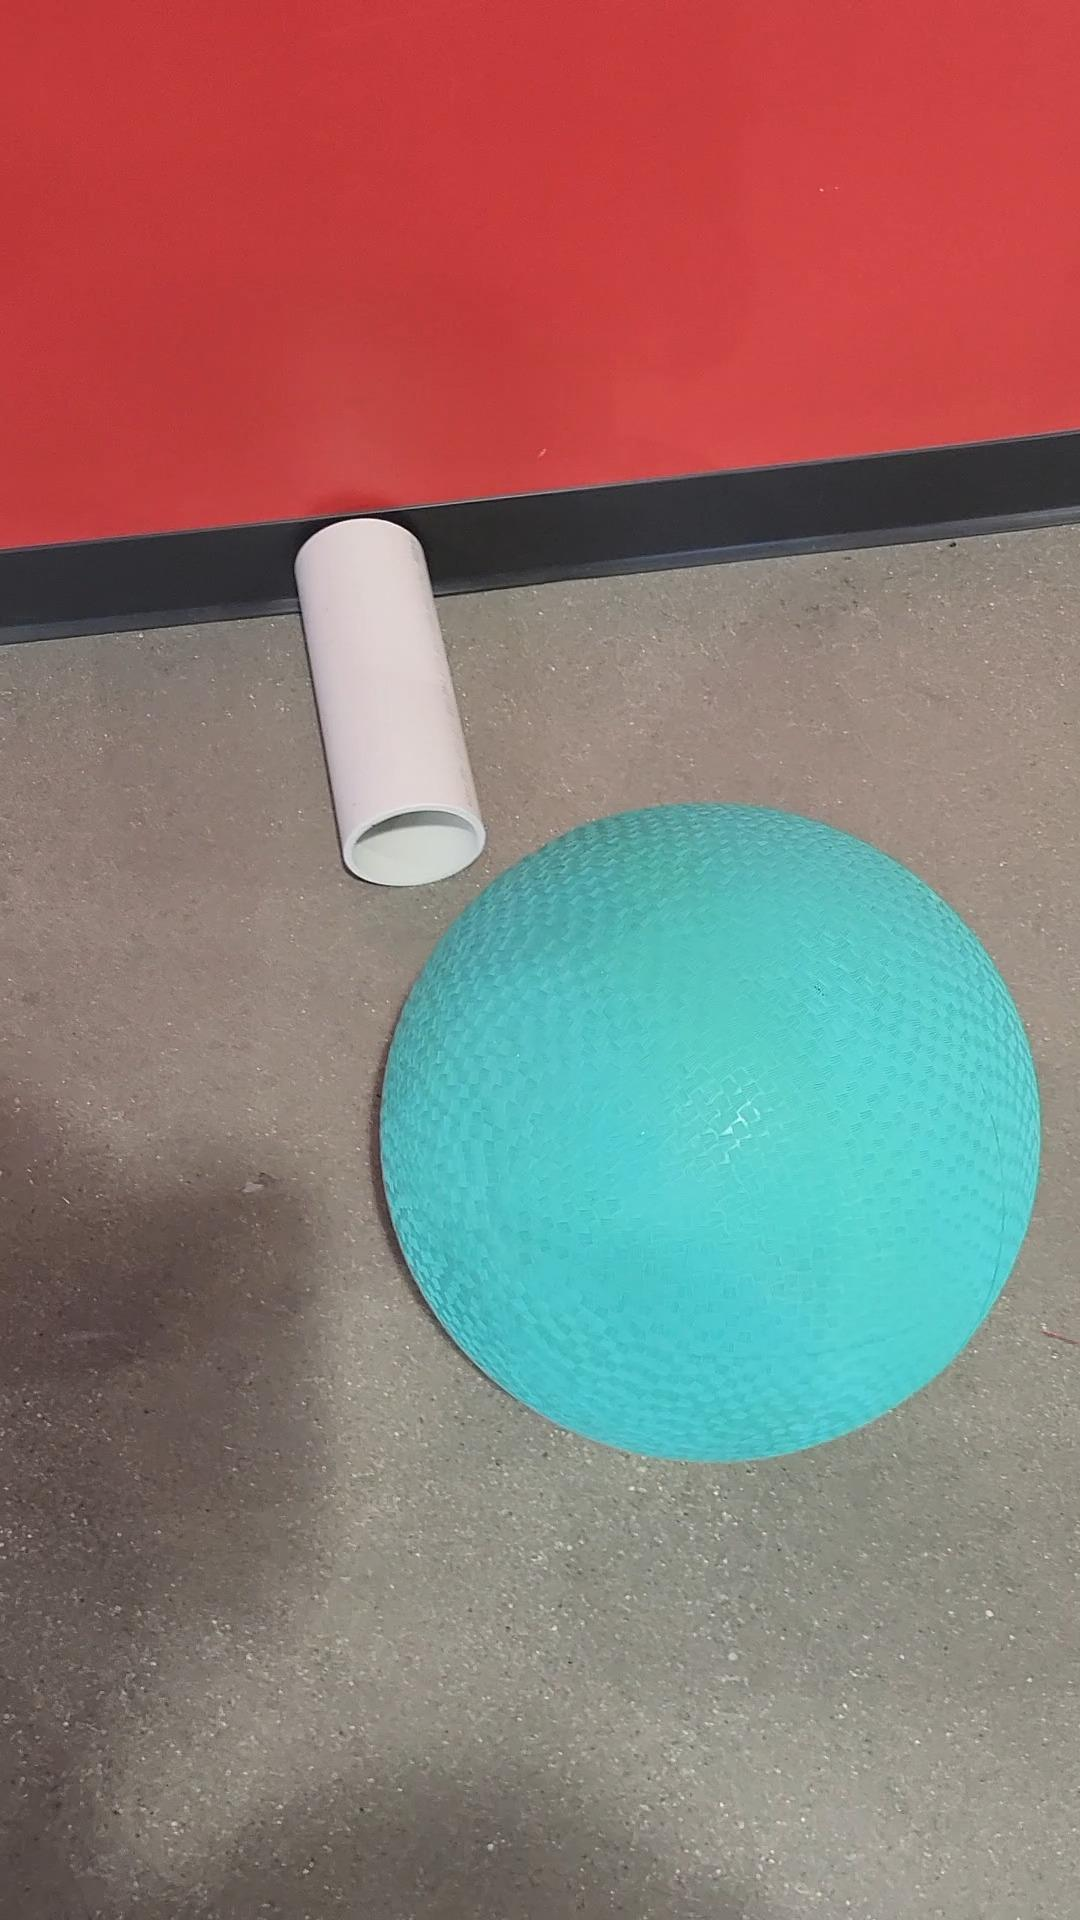algae: (351, 781, 1051, 1489)
coral: (295, 512, 495, 881)
